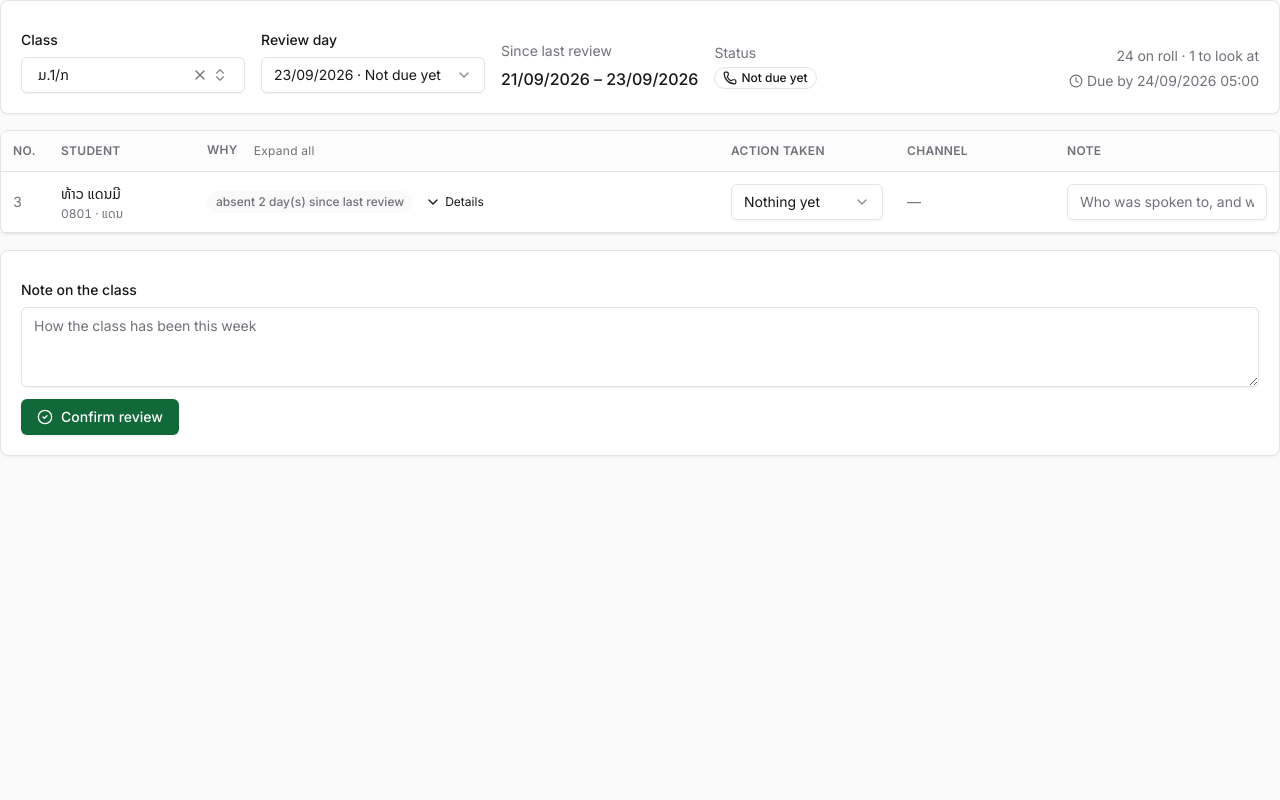
Test: the review sheet › shows the rows behind a flag, so the teacher need not leave the page
The width and height of the screenshot is (1280, 800).
Expected: the text "ວົນແຊວໃນຫ້ອງ" is not shown
Click the button with aria-label "details — ທ້າວ ແດນມີ" at x=454, y=202, box [417,190,492,214]
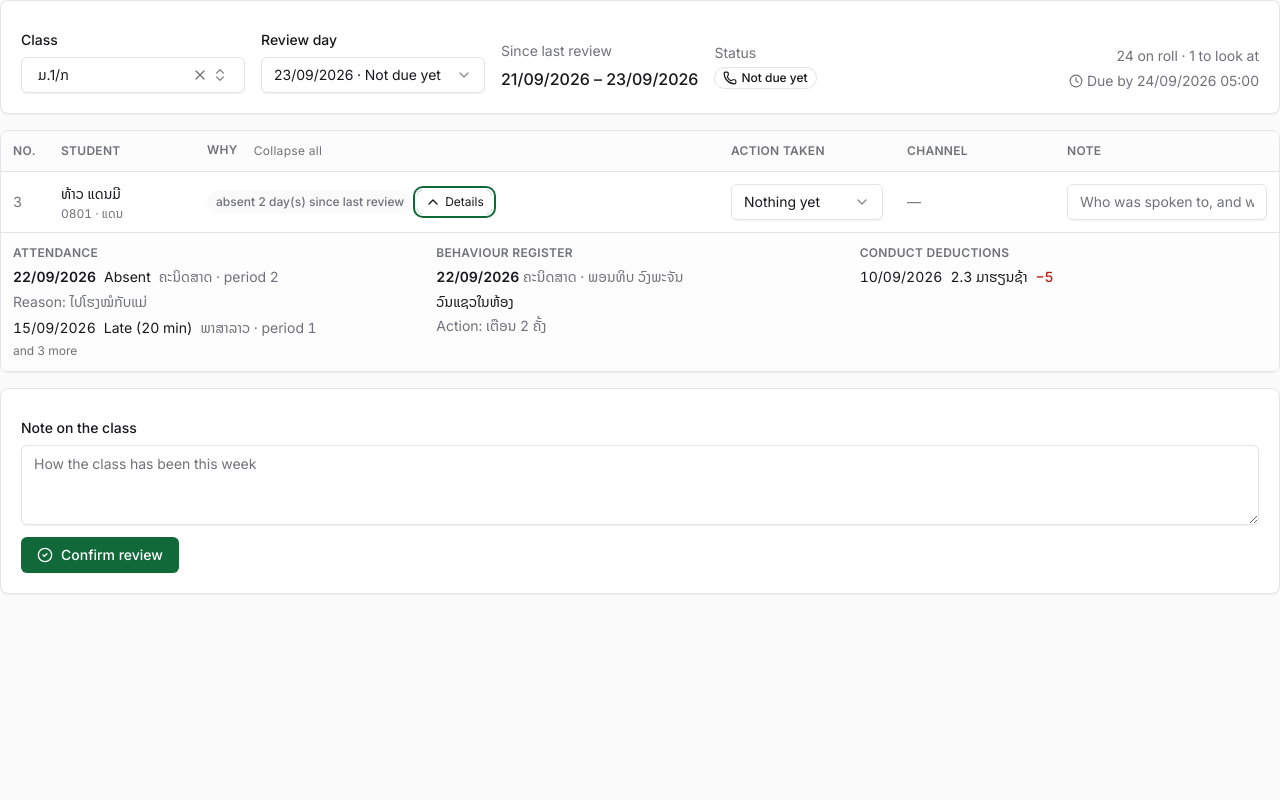
Expected: the text "22/09/2026" is shown 2 times, [13,265,96,290]; [436,265,519,288]
Expected: the text "ວົນແຊວໃນຫ້ອງ" is shown, [436,290,514,312]
Expected: the text "Action: ເຕືອນ 2 ຄັ້ງ" is shown, [436,314,546,337]
